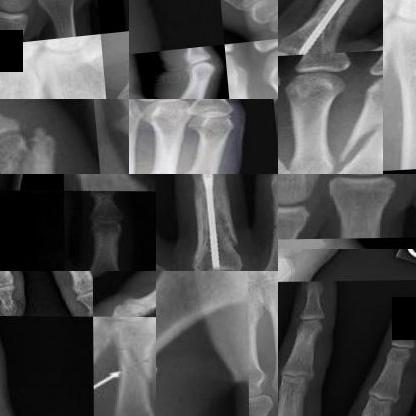fracture: (187, 174, 242, 271), (294, 0, 378, 57), (336, 98, 383, 173), (0, 121, 62, 173), (105, 336, 155, 385), (156, 311, 172, 415), (278, 0, 297, 51)
